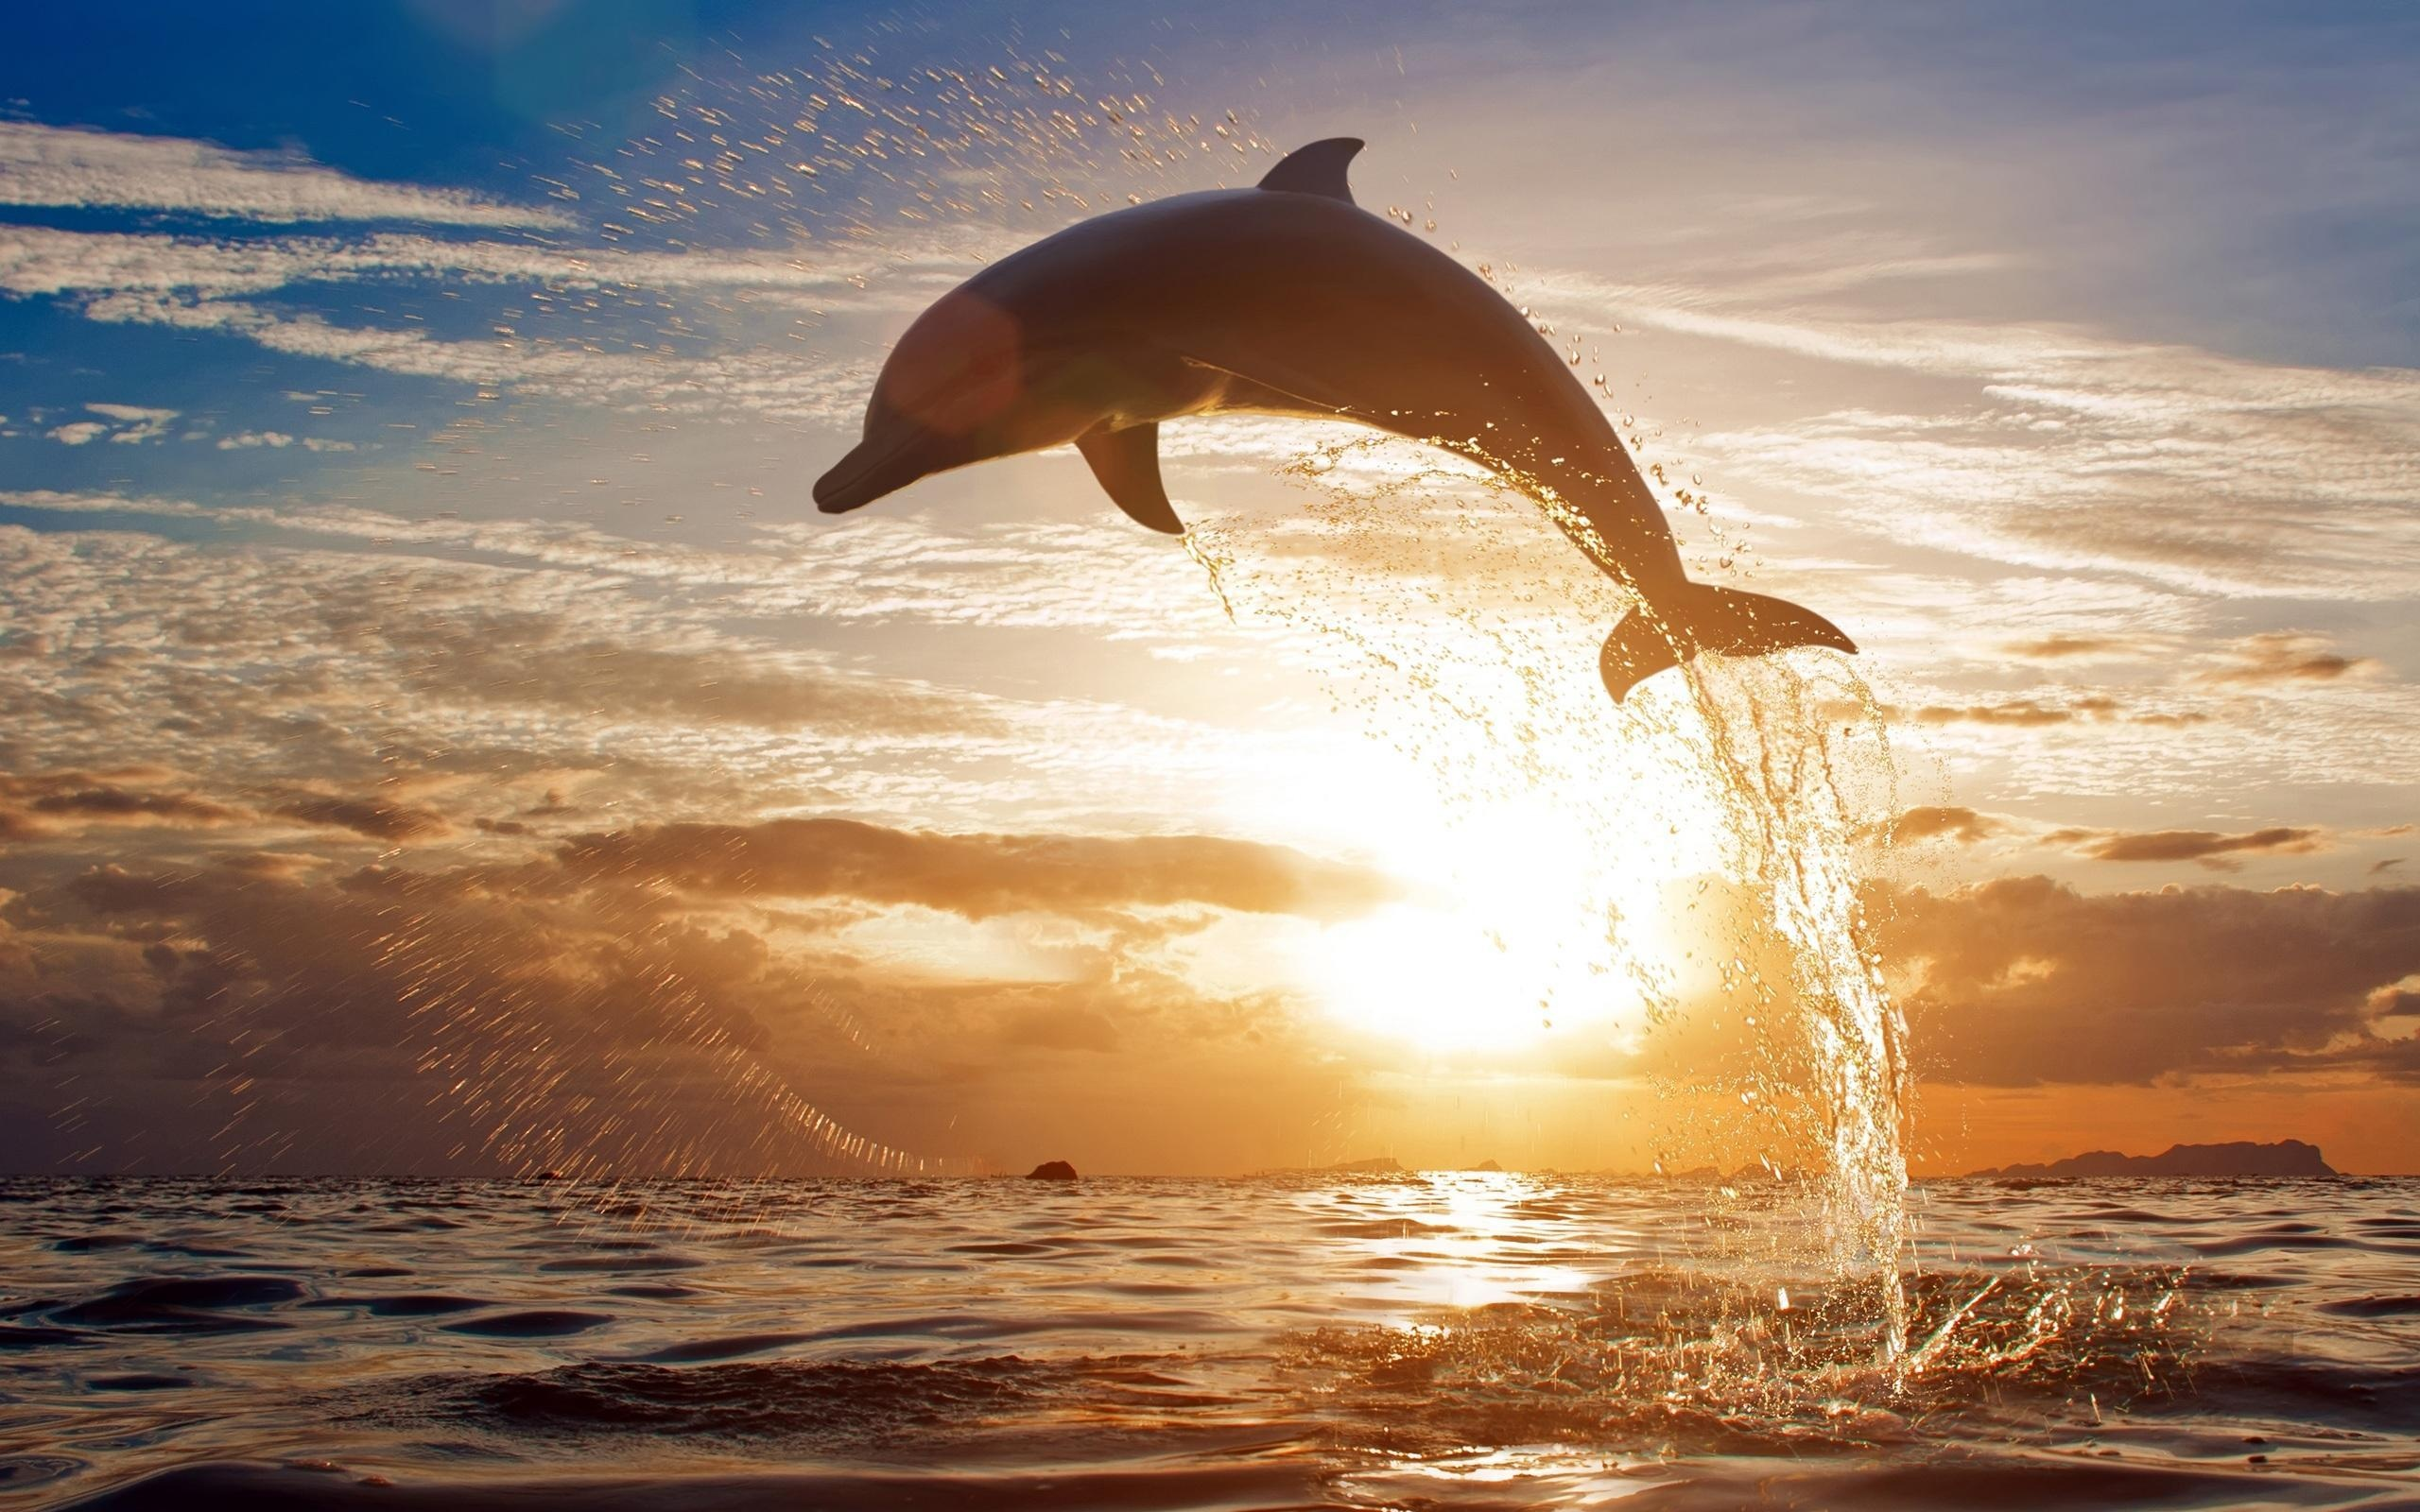fish: (807, 131, 1873, 693)
